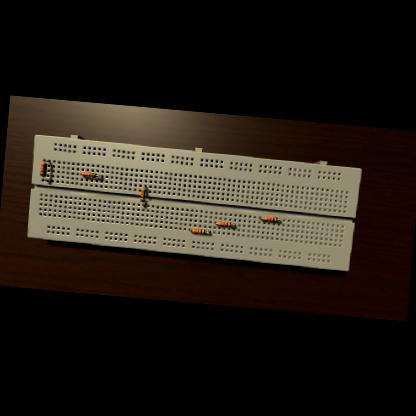breadboard: (25, 132, 362, 272)
resistor: (39, 162, 46, 176), (139, 188, 145, 202), (263, 216, 278, 221), (81, 172, 96, 177), (192, 229, 206, 234), (218, 221, 232, 226)
wire: (42, 176, 48, 180), (44, 159, 50, 162), (96, 174, 102, 176), (140, 202, 144, 204), (142, 186, 145, 188), (258, 217, 263, 218), (278, 218, 280, 220), (206, 232, 209, 233), (214, 222, 217, 223), (189, 229, 191, 230), (232, 223, 233, 224)
